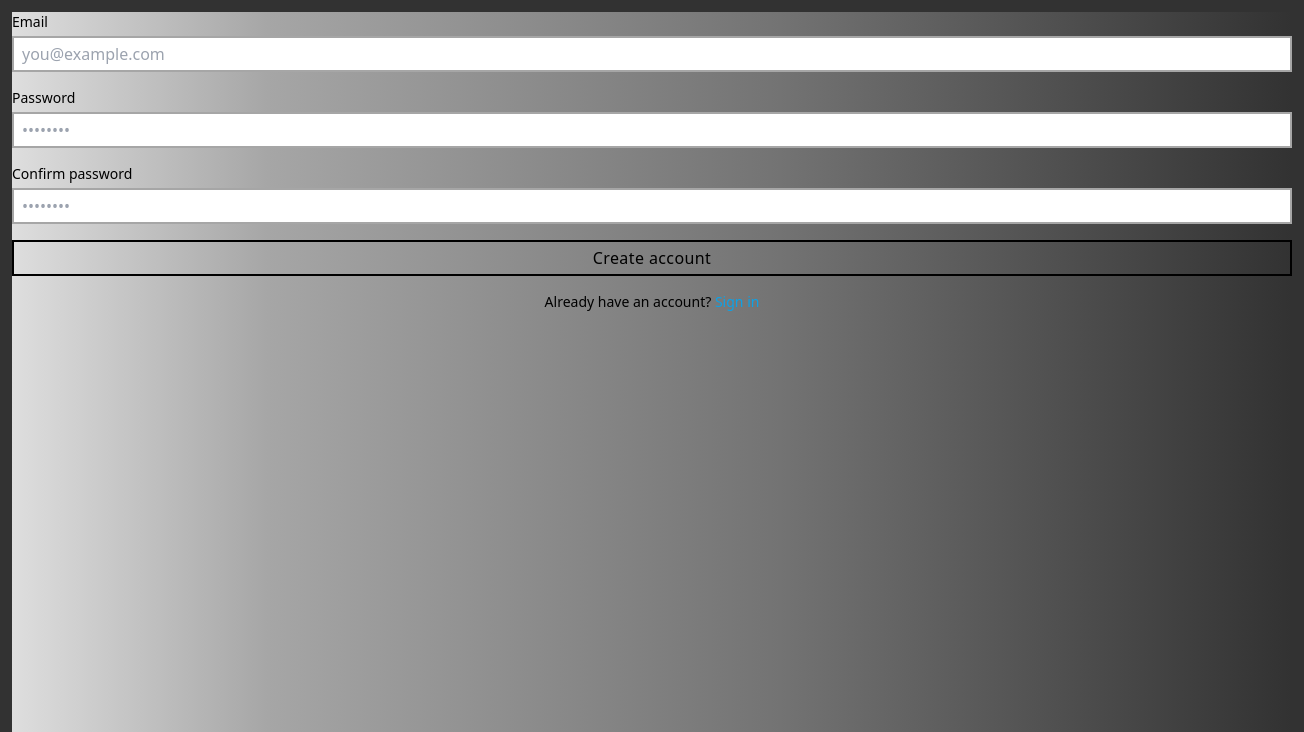
it: RegisterForm › shows inline error when passwords do not match
The image size is (1304, 732).
Type "abc123" into the password field labelled "Password" at (652, 130), box [12, 112, 1292, 148]
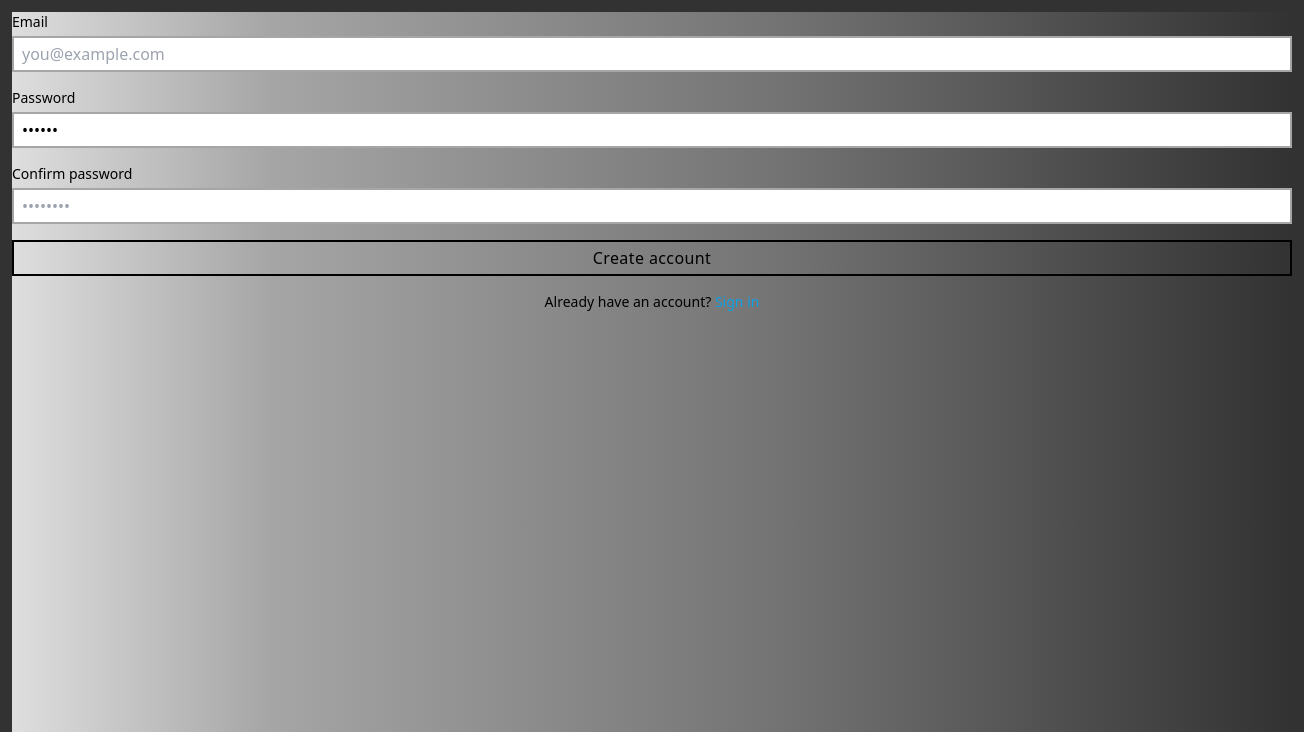
Type "different" into the password field labelled "Confirm password" at (652, 206), box [12, 188, 1292, 224]
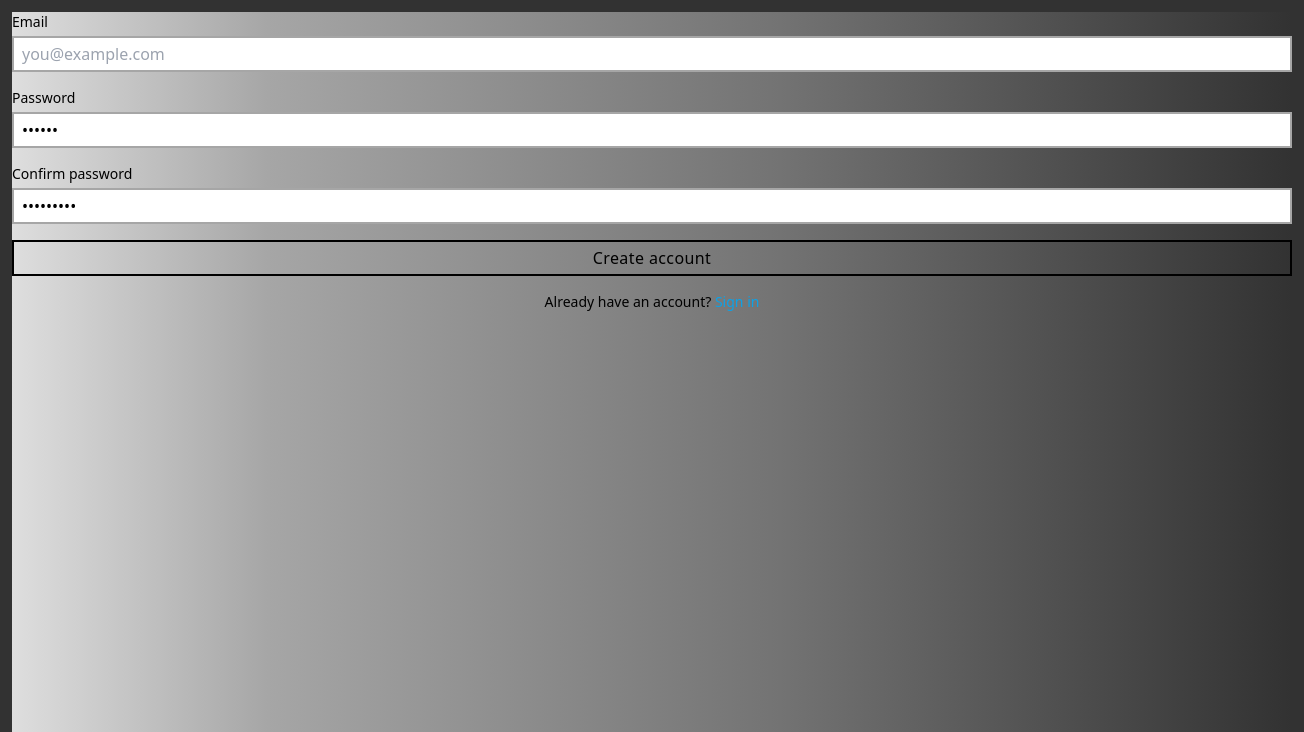
Click the button "Create account" at (652, 258), box [12, 240, 1292, 276]
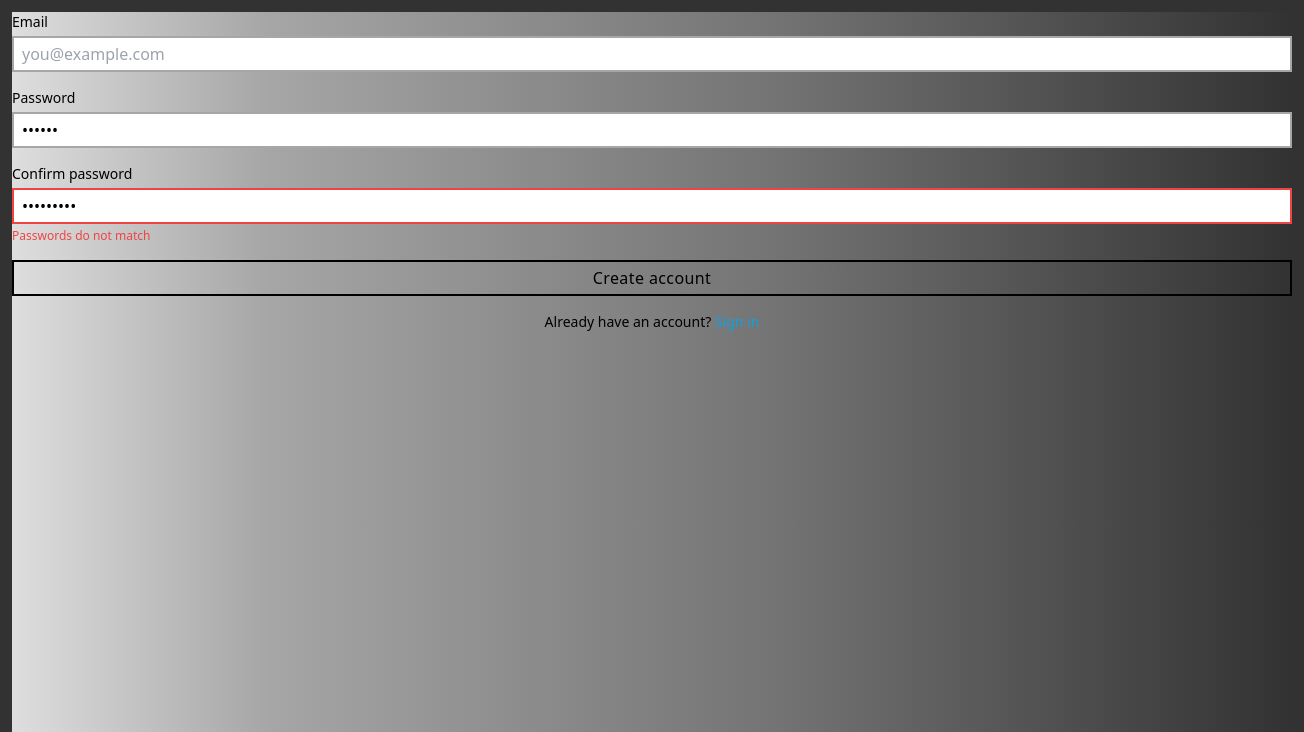
Expected: the text "Passwords do not match" is shown, [12, 227, 150, 244]
